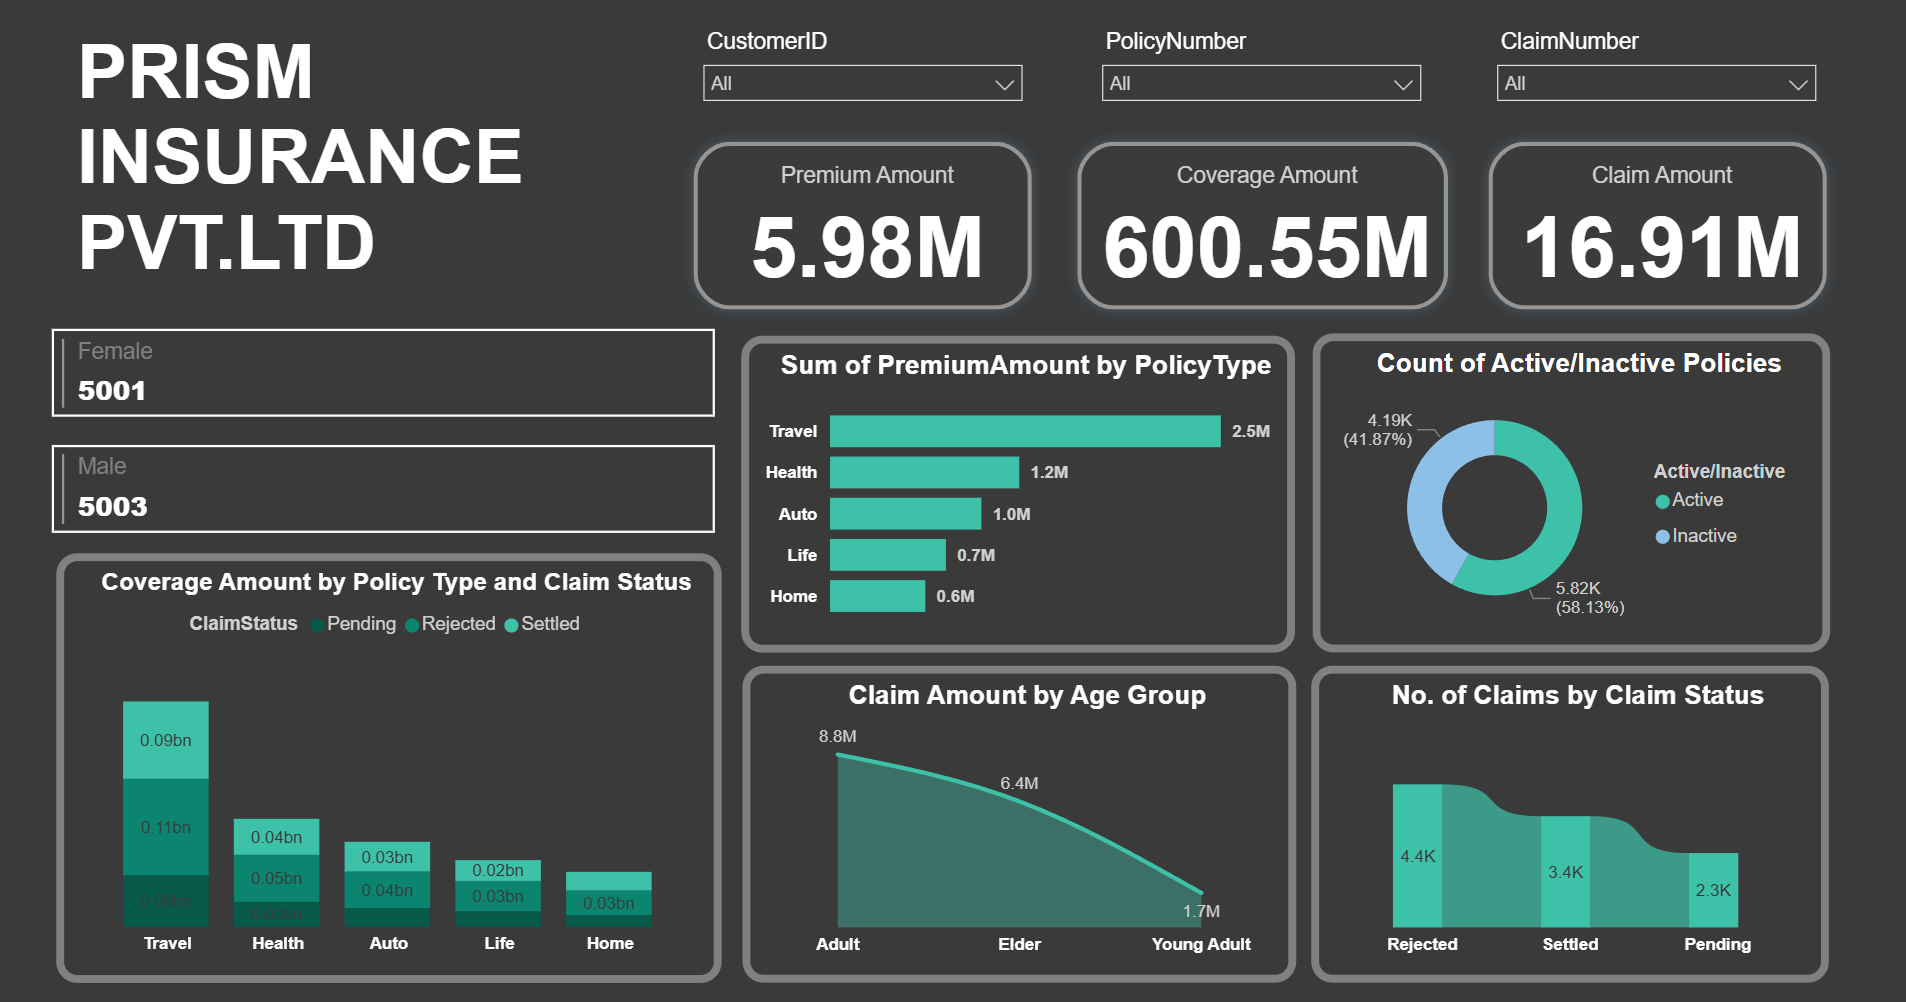

Layout of this report page (visuals, bound fields, positions):
{"tool":"powerbi","page":{"name":"Page 1","canvas":[1280,720],"ordinal":0},"visuals":[{"type":"slicer","fields":{"Values":["InsuranceData.PolicyNumber"]},"box":[739.5,24.4,246.5,69.8],"z":0},{"type":"slicer","fields":{"Values":["InsuranceData.ClaimNumber"]},"box":[1019.8,24.4,246.5,69.8],"z":1000},{"type":"slicer","fields":{"Values":["InsuranceData.CustomerID"]},"box":[457,24.4,246.5,69.8],"z":2000},{"type":"textbox","box":[17.4,24.4,405.8,194.2],"z":3000},{"type":"cardVisual","fields":{"Data":["Sum(InsuranceData.PremiumAmount)"]},"box":[444.2,94.2,272.1,151.2],"z":4000},{"type":"cardVisual","fields":{"Data":["Sum(InsuranceData.CoverageAmount)"]},"box":[716.3,94.2,295.3,151.2],"z":5000},{"type":"cardVisual","fields":{"Data":["Sum(InsuranceData.ClaimAmount)"]},"box":[1008.1,94.2,272.1,151.2],"z":6000},{"type":"multiRowCard","fields":{"Values":["InsuranceData.Gender","CountNonNull(InsuranceData.Gender)"]},"box":[0,237.2,480.2,182.6],"z":7000},{"type":"ribbonChart","title":"No. of Claims by Claim Status","fields":{"Category":["InsuranceData.ClaimStatus"],"Y":["CountNonNull(InsuranceData.ClaimStatus)"]},"box":[898.5,481.8,367.5,224.6],"z":8000},{"type":"barChart","fields":{"Category":["InsuranceData.PolicyType"],"Y":["Sum(InsuranceData.PremiumAmount)"]},"box":[494.2,247.7,393,224.4],"z":9000},{"type":"lineChart","title":"Claim Amount by Age Group","fields":{"Category":["InsuranceData.Age Group"],"Y":["Sum(InsuranceData.ClaimAmount)"]},"box":[494.6,481.8,393.1,224.6],"z":10000},{"type":"donutChart","title":"Count of Active/Inactive Policies","fields":{"Category":["InsuranceData.Active/Inactive"],"Y":["CountNonNull(InsuranceData.Active/Inactive)"]},"box":[898.8,245.3,367.4,226.7],"z":11000},{"type":"columnChart","title":"Coverage Amount by Policy Type and Claim Status","fields":{"Category":["InsuranceData.PolicyType"],"Series":["InsuranceData.ClaimStatus"],"Y":["Sum(InsuranceData.CoverageAmount)"]},"box":[7.9,402,471.9,304.4],"z":12000}]}

Visuals, with their boxes on the page's 1280x720 design canvas (x1, y1, x2, y2). These are canvas units, not pixel positions in the 1906x1002 screenshot, which may show the page scaled, cropped or inside an application window:
slicer - InsuranceData.PolicyNumber: rect(740, 24, 986, 94)
slicer - InsuranceData.ClaimNumber: rect(1020, 24, 1266, 94)
slicer - InsuranceData.CustomerID: rect(457, 24, 704, 94)
textbox: rect(17, 24, 423, 219)
cardVisual - Sum(InsuranceData.PremiumAmount): rect(444, 94, 716, 245)
cardVisual - Sum(InsuranceData.CoverageAmount): rect(716, 94, 1012, 245)
cardVisual - Sum(InsuranceData.ClaimAmount): rect(1008, 94, 1280, 245)
multiRowCard - InsuranceData.Gender x CountNonNull(InsuranceData.Gender): rect(0, 237, 480, 420)
"No. of Claims by Claim Status" ribbonChart: rect(898, 482, 1266, 706)
barChart - InsuranceData.PolicyType x Sum(InsuranceData.PremiumAmount): rect(494, 248, 887, 472)
"Claim Amount by Age Group" lineChart: rect(495, 482, 888, 706)
"Count of Active/Inactive Policies" donutChart: rect(899, 245, 1266, 472)
"Coverage Amount by Policy Type and Claim Status" columnChart: rect(8, 402, 480, 706)
